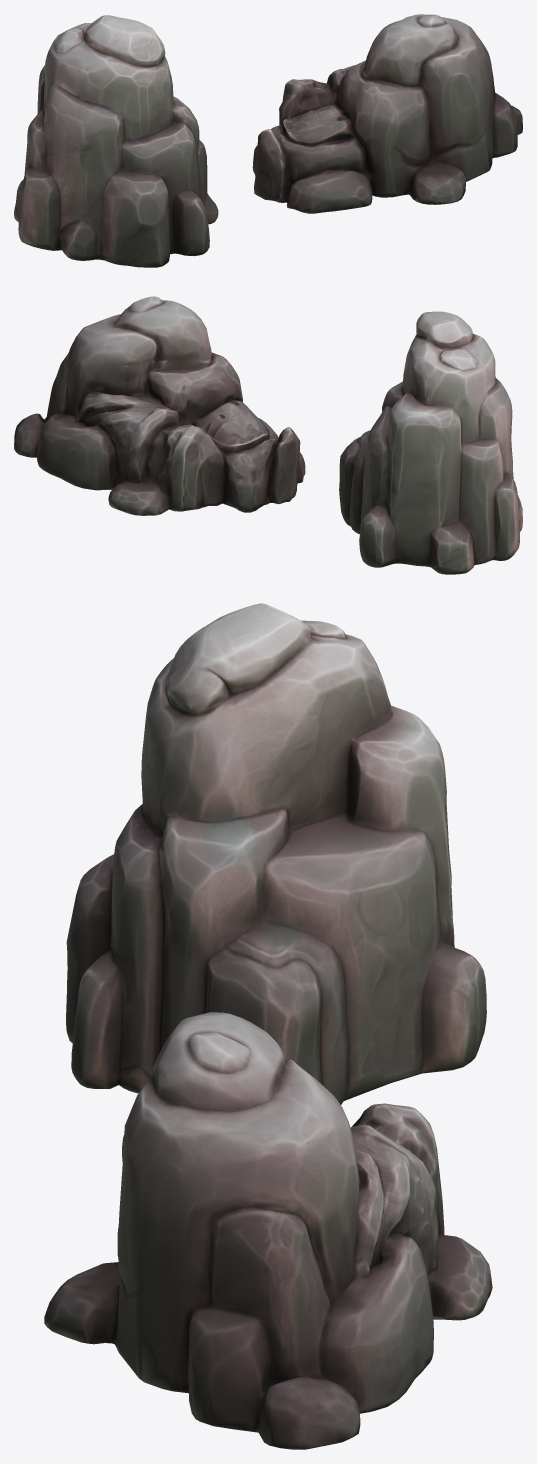
File: stones.glb
3 views of the same model, one above another, from view 1: azimuth 30°, elevation 25°; view 2: azimuth 150°, elevation 25°; view 3: azimuth 270°, elevation 25° (orthographic). The views are drawn at different scales.
Parts seen in each view (by area): view 1: BIG_1_BiG_0, Big_2_BiG_0; view 2: Big_2_BiG_0, BIG_1_BiG_0; view 3: BIG_1_BiG_0, Big_2_BiG_0.
Part boxes in pixels (x1,y1,x2,y2): BIG_1_BiG_0: (14,15,218,267); Big_2_BiG_0: (252,14,522,213); Big_2_BiG_0: (14,296,305,515); BIG_1_BiG_0: (339,311,522,574); BIG_1_BiG_0: (66,603,486,1104); Big_2_BiG_0: (44,1012,492,1449).
Bounding box in the file's own units: 13.59 × 5.66 × 5.29.
Materials: 1 (1 with a texture image).
